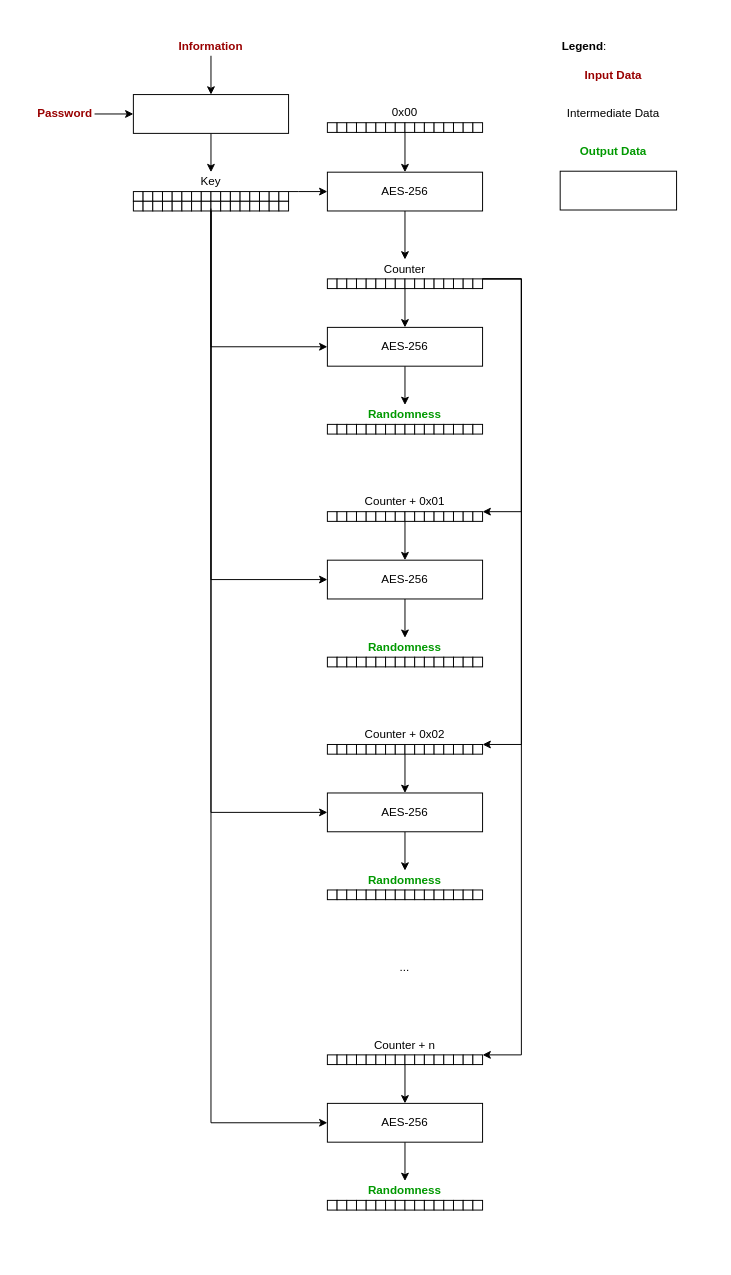
Image size: 731x1275. Some labels were removed from this diagram. Each missing label, with the centre of its shape:
"Algorithm" goes at (618,190).
"PBKDF2-SHA-256" goes at (210,113).
